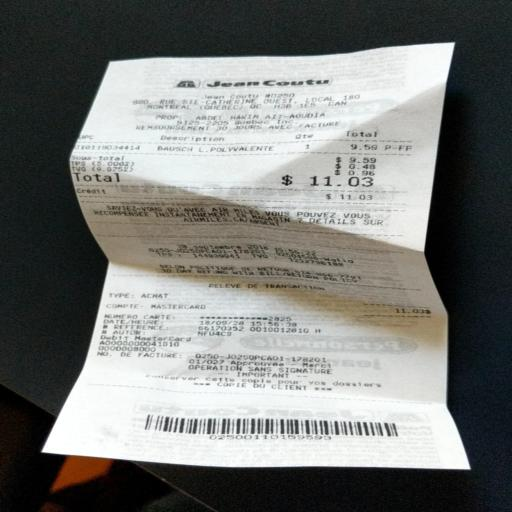paper: (29, 25, 512, 512)
